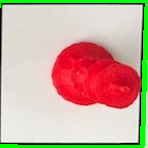Red King: (49, 35, 142, 114)
